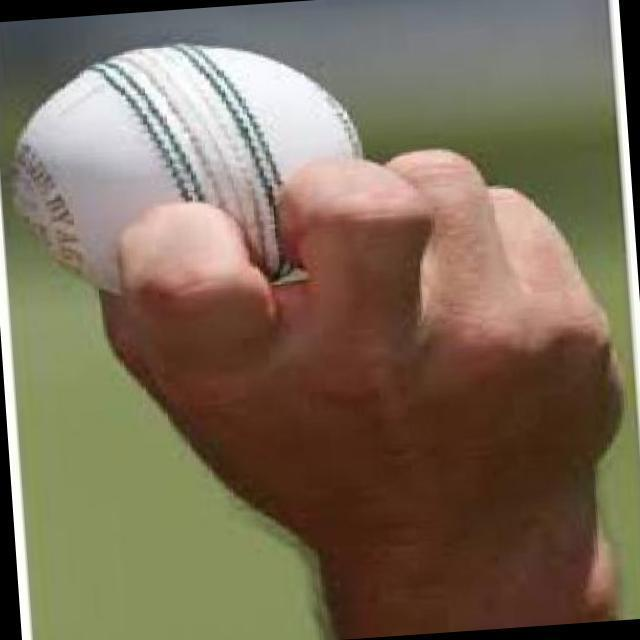-: (12, 31, 381, 278)
